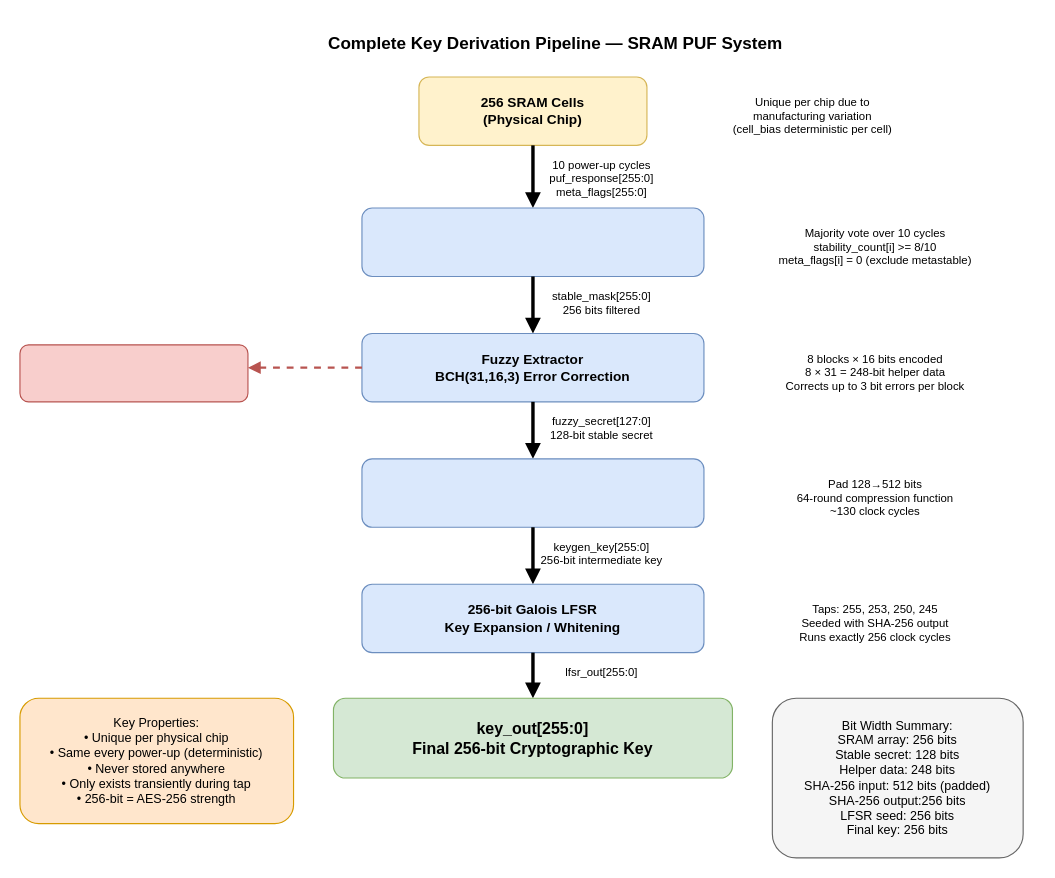
Image size: 1055x878. Some labels were removed from this diagram. The box of each missing label's shape, as (x1, y1, x2, y2) in pixels:
helper_data_out[247:0] → stored on tap card (public): (19, 344, 248, 402)
SHA-256 Hash Function (key_gen.v + sha256_core.v): (361, 458, 704, 527)
Stability Filter (ENROLL_ANALYZE + ENROLL_SELECT): (361, 207, 704, 276)
